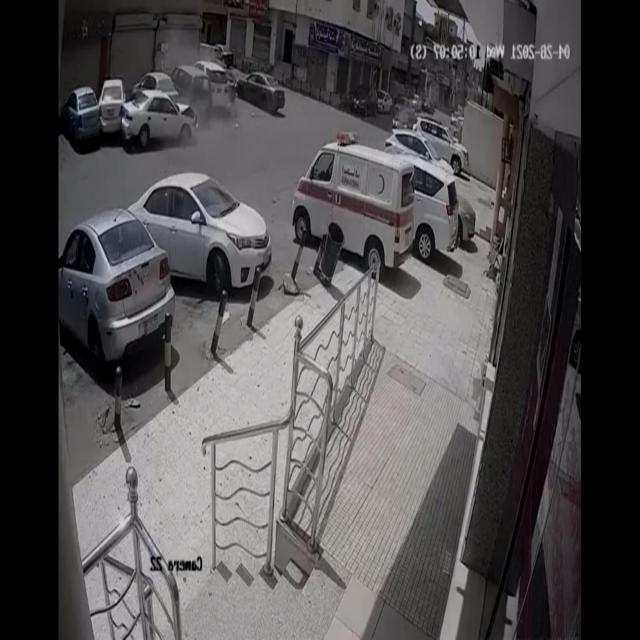accident: (62, 78, 196, 152)
non-accident: (59, 171, 273, 369), (291, 135, 477, 279), (384, 117, 470, 177), (198, 61, 286, 118), (351, 85, 394, 119), (400, 93, 434, 115)
